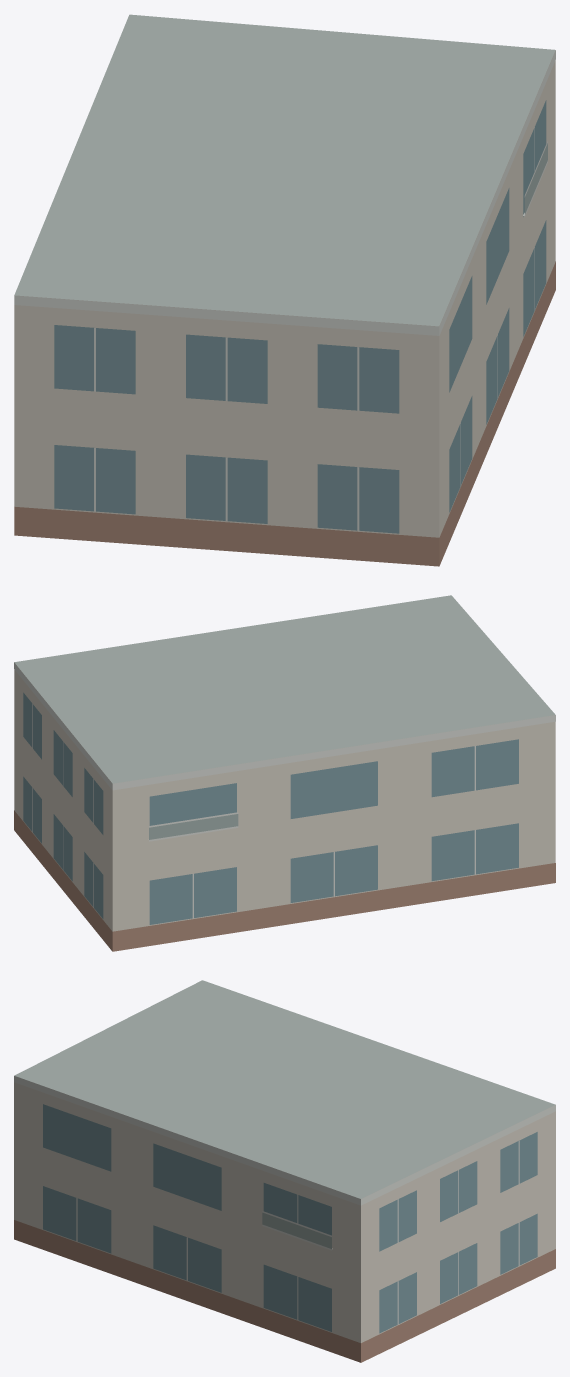
Rendered from survey-upis-32892669.glb.
The picture shows the model from 3 angles, top to bottom: view 1: azimuth 30°, elevation 25°; view 2: azimuth 150°, elevation 25°; view 3: azimuth 270°, elevation 25°; orthographic projection. The views are drawn at different scales.
Parts seen in each view (by area): view 1: survey-upis-32892669.tmp; view 2: survey-upis-32892669.tmp; view 3: survey-upis-32892669.tmp.
Part boxes in pixels (x1,y1,x2,y2): survey-upis-32892669.tmp: (14, 14, 555, 566); survey-upis-32892669.tmp: (14, 595, 555, 951); survey-upis-32892669.tmp: (14, 980, 555, 1362).
Size of the model in its own units: 17.5 by 6.1 by 18.3.
